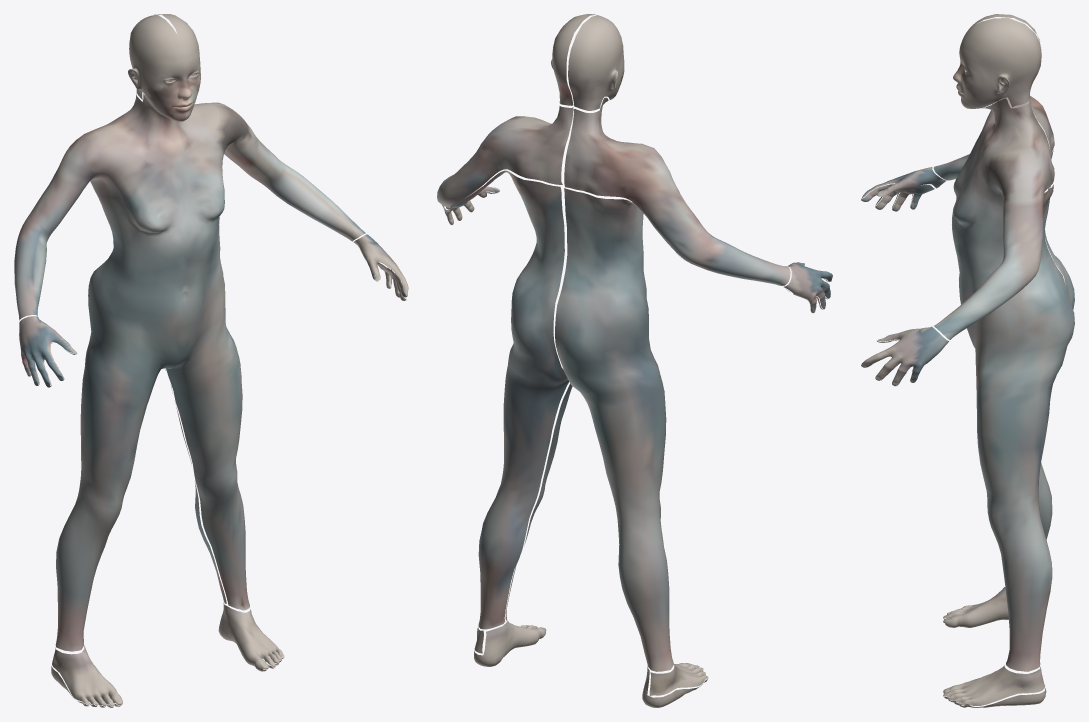
File: body_mesh.glb
The picture shows the model from 3 angles, left to right: view 1: azimuth 30°, elevation 25°; view 2: azimuth 150°, elevation 25°; view 3: azimuth 270°, elevation 25°; orthographic projection.
Visible parts, largest first — view 1: base_male.obj; view 2: base_male.obj; view 3: base_male.obj.
Boxes of the visible parts, x1,y1,x2,y2 form: base_male.obj: (14,14,408,707); base_male.obj: (437,14,832,707); base_male.obj: (861,14,1074,707).
Bounding box in the file's own units: 1.01 × 1.7 × 0.5101.
